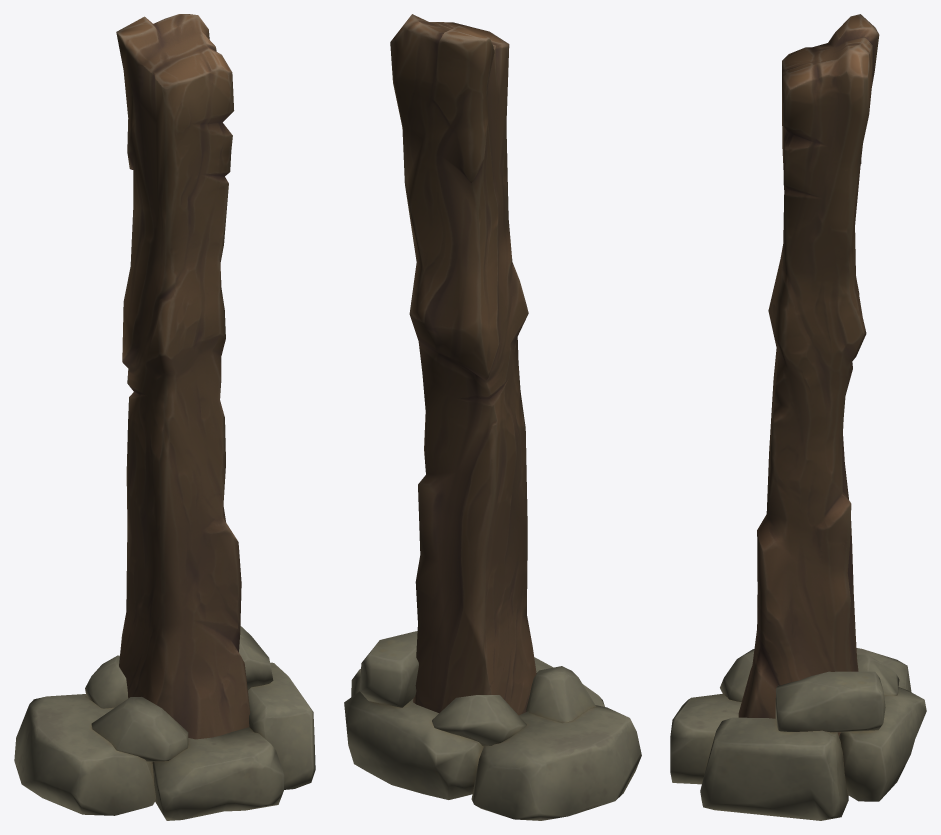
File: SM_FW01_RoadsignPost_01.fbx
The picture shows the model from 3 angles, left to right: view 1: azimuth 30°, elevation 25°; view 2: azimuth 150°, elevation 25°; view 3: azimuth 270°, elevation 25°; orthographic projection. The views are drawn at different scales.
Visible parts, largest first — view 1: SM_FW01_RoadsignPost_01_LOD0; view 2: SM_FW01_RoadsignPost_01_LOD0; view 3: SM_FW01_RoadsignPost_01_LOD0.
Part boxes in pixels (left/top/right/bottom): SM_FW01_RoadsignPost_01_LOD0: left=14, top=14, right=315, bottom=820; SM_FW01_RoadsignPost_01_LOD0: left=344, top=14, right=641, bottom=820; SM_FW01_RoadsignPost_01_LOD0: left=670, top=14, right=926, bottom=820.
Size of what is drawn, in the model's own units: 0.7786 by 2.13 by 0.6673.
